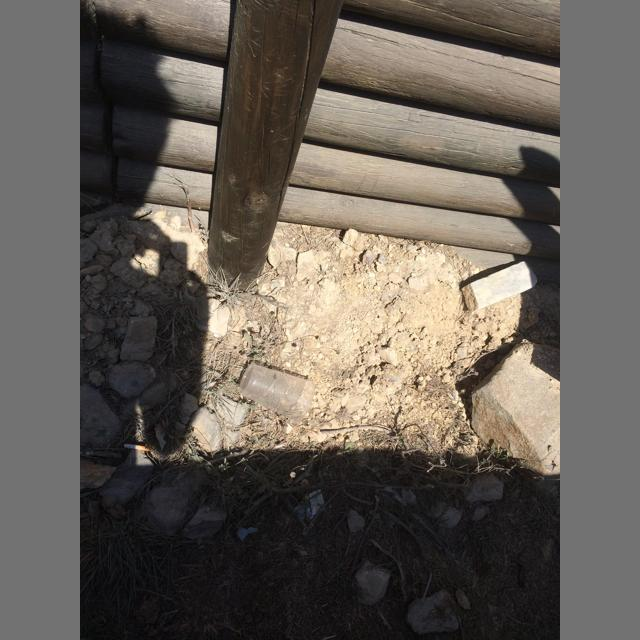litter: (239, 364, 315, 423), (124, 443, 153, 452)
